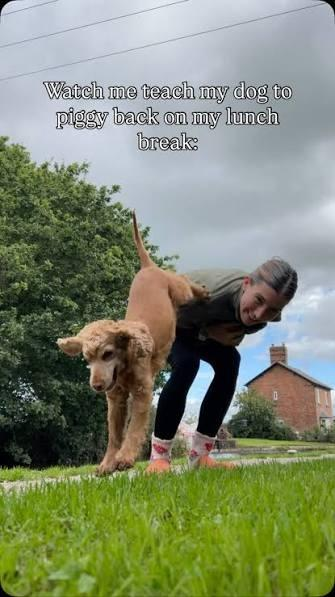adult_dog: (58, 207, 212, 476)
non-dog: (142, 258, 298, 475)
